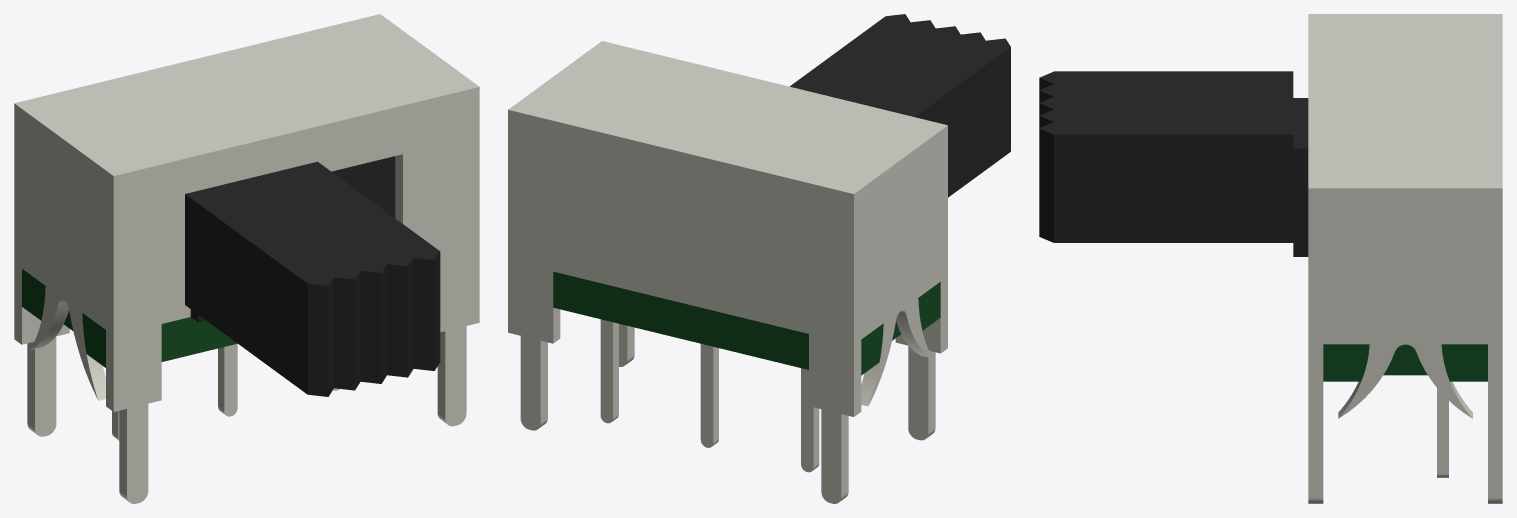
The model's file is sw_e_switch_eg1224_spdt_angled.glb.
3 views of the same model, side by side, from view 1: azimuth 30°, elevation 25°; view 2: azimuth 150°, elevation 25°; view 3: azimuth 270°, elevation 25° (orthographic). The views are drawn at different scales.
Visible parts, largest first — view 1: body, pin_2, pin_7, pin_1, pin_4; view 2: body, pin_1, pin_6, pin_2, pin_5, pin_4, pin_3, pin_7; view 3: body, pin_7, pin_6, pin_5.
Boxes of the visible parts, x1,y1,x2,y2 form: body: (14, 14, 479, 411); pin_2: (119, 404, 148, 503); pin_7: (437, 326, 466, 426); pin_1: (27, 336, 56, 436); pin_4: (218, 343, 237, 416); body: (508, 14, 1010, 416); pin_1: (821, 409, 848, 503); pin_6: (520, 336, 547, 430); pin_2: (908, 346, 935, 440); pin_5: (600, 329, 618, 423); pin_4: (700, 353, 718, 447); pin_3: (801, 379, 819, 472); pin_7: (619, 324, 634, 366); body: (1039, 14, 1502, 418); pin_7: (1308, 419, 1323, 503); pin_6: (1488, 419, 1502, 503); pin_5: (1437, 388, 1448, 477).
Size of the model in its own units: 0.0138 by 0.012 by 0.0155.
